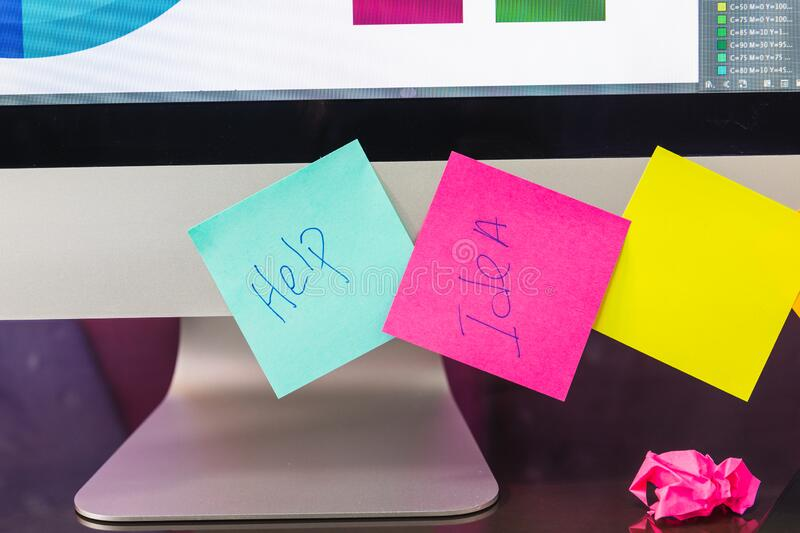Note: (385, 151, 625, 400), (193, 137, 421, 397), (589, 144, 797, 399)
